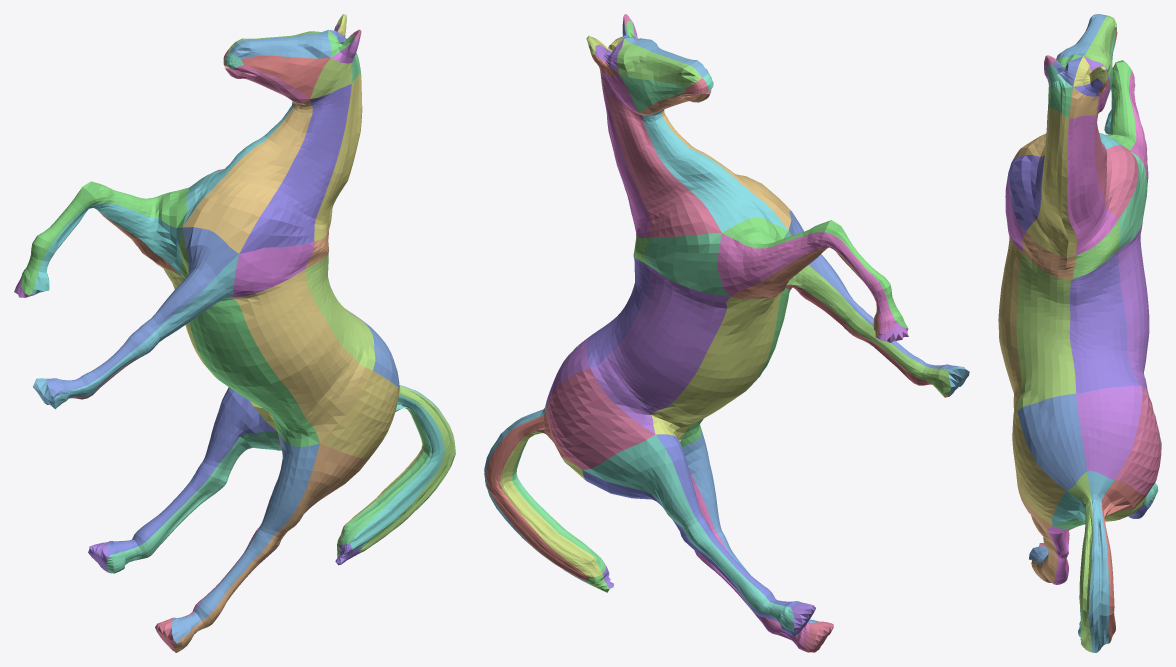
The model's file is horse08_output.obj.
3 views of the same model, side by side, from view 1: azimuth 30°, elevation 25°; view 2: azimuth 150°, elevation 25°; view 3: azimuth 270°, elevation 25° (orthographic). The views are drawn at different scales.
Size of the model in its own units: 0.8838 by 1.1 by 0.2607.
